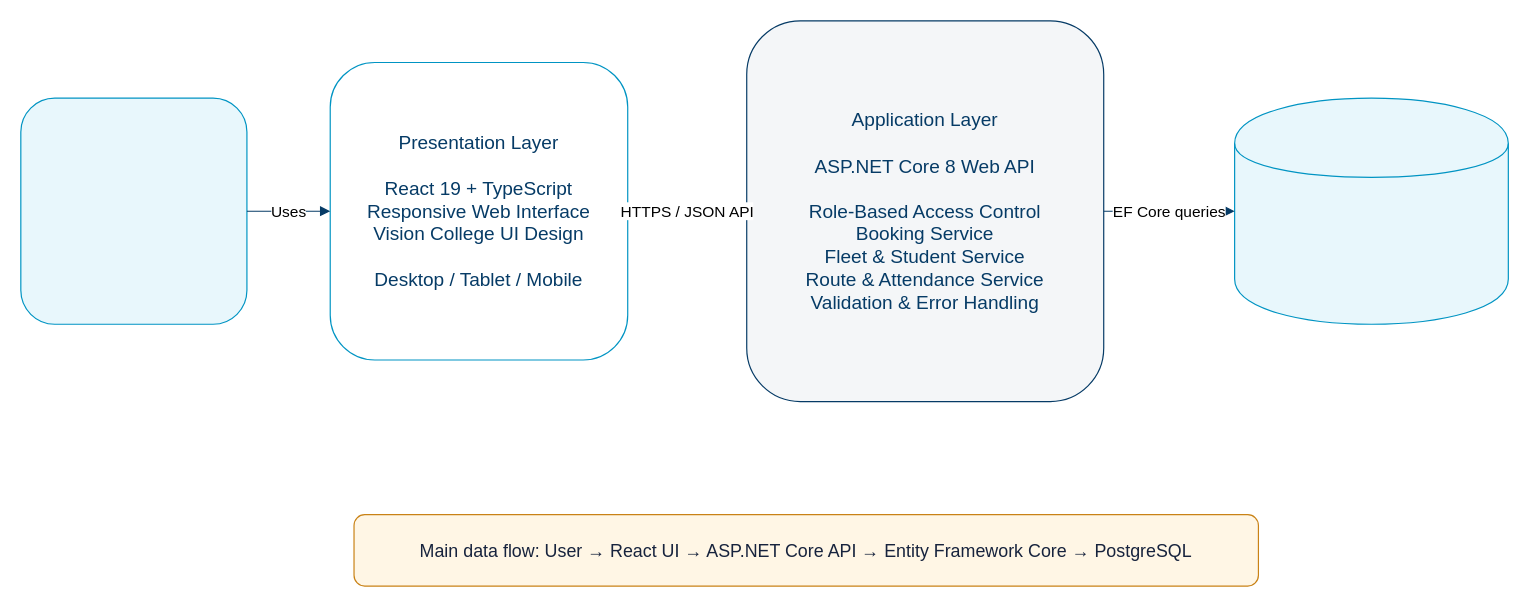
The diagram is 1529 pixels wide and 607 high, and some of its shapes have lost their labels. The box of each missing label's shape, as (x1, y1, x2, y2) in pixels:
Data Layer Entity Framework Core PostgreSQL fleet_booking database: (1233, 97, 1508, 324)
System Users Administrator Staff / Tutor Parent / Guardian Student Driver: (20, 97, 247, 324)
